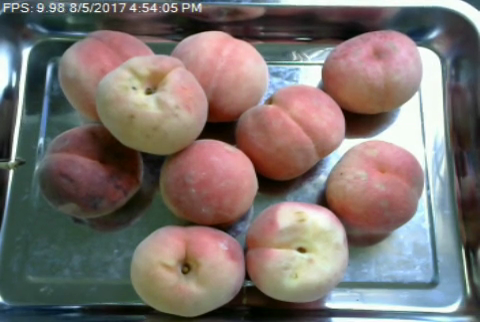Peach: (130, 224, 244, 318), (99, 54, 205, 155), (244, 202, 349, 303), (235, 85, 345, 181), (52, 27, 155, 127), (325, 138, 424, 236), (41, 123, 142, 218), (174, 30, 270, 121), (159, 138, 258, 226), (322, 28, 421, 116)
